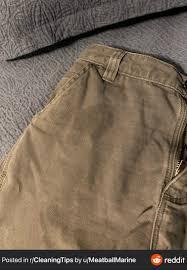mustard: (85, 101, 121, 146)
